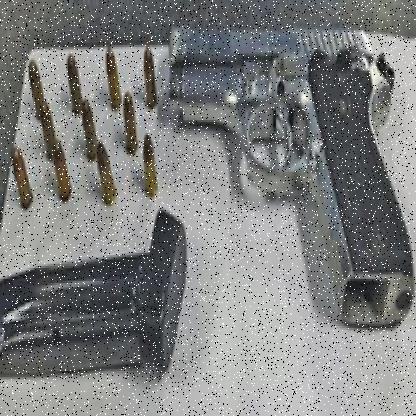pistol: (162, 21, 413, 332)
